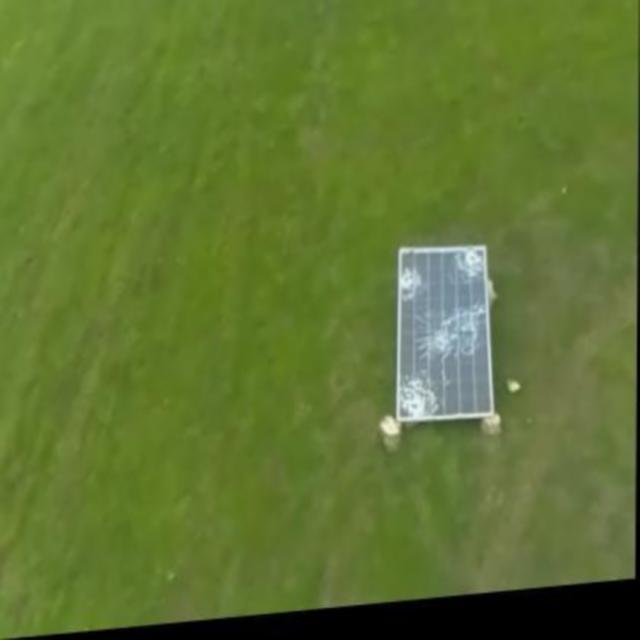cracked: (393, 242, 494, 424)
